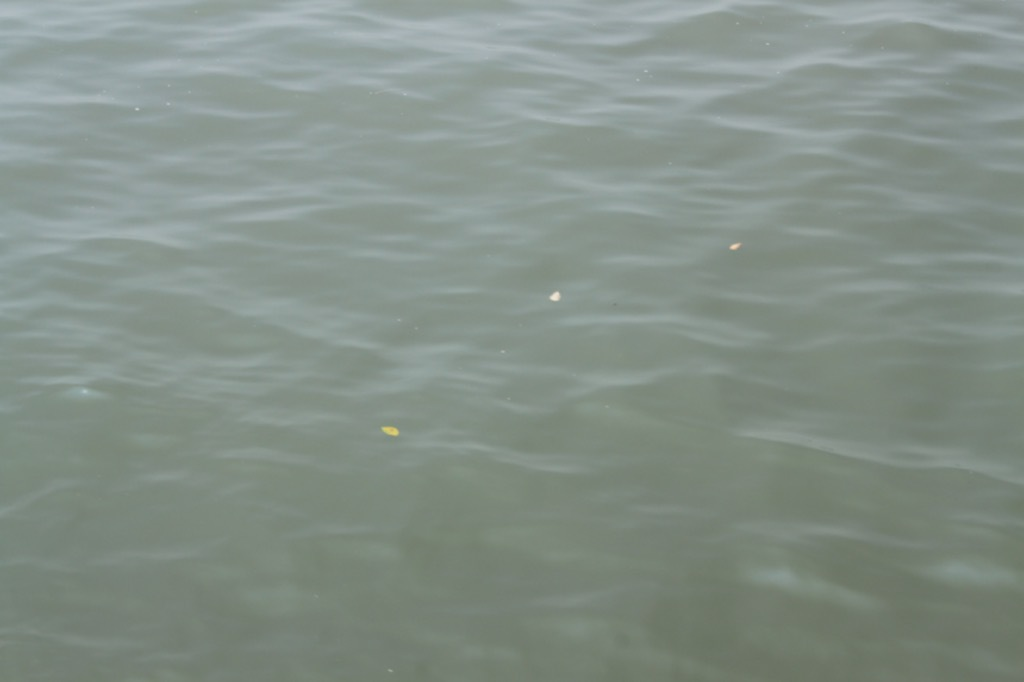plastic: (377, 418, 405, 442), (546, 284, 567, 307), (726, 238, 746, 256)
